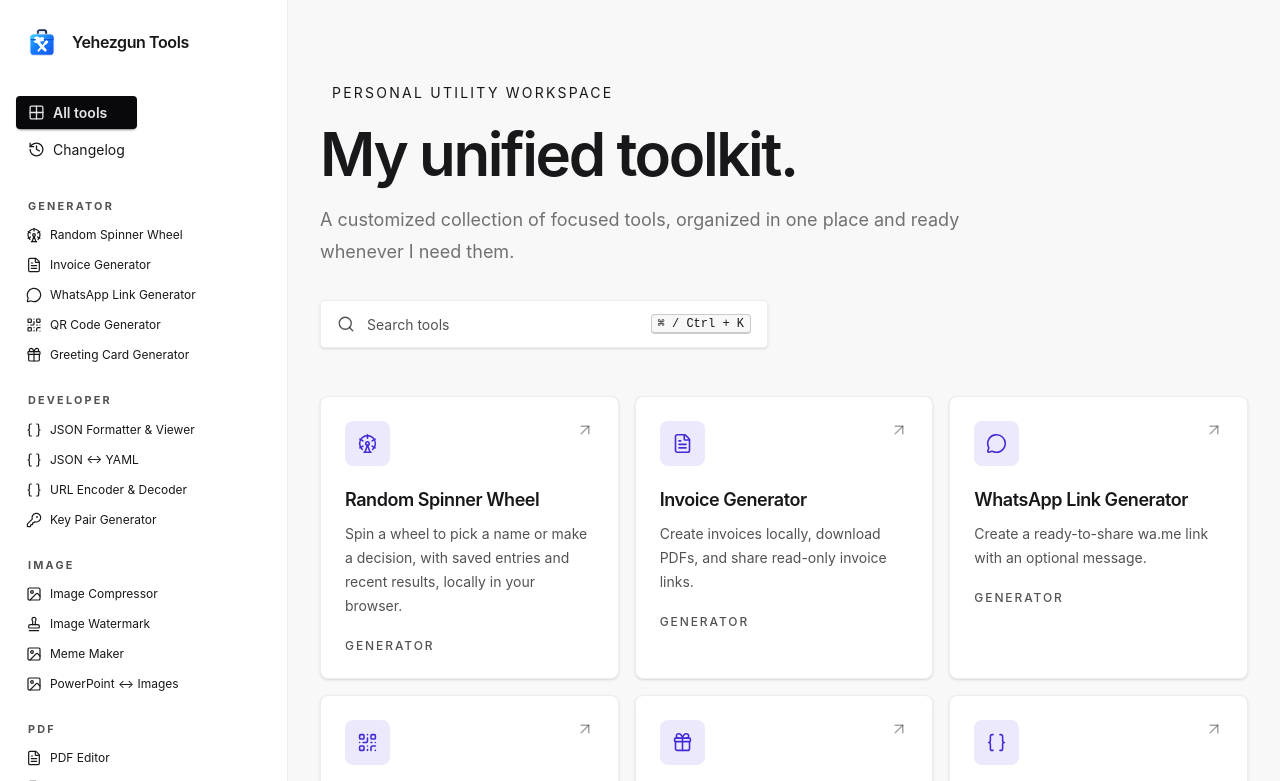
Scenario: shows an empty state when there are no matching tools
Click the button "Search tools ⌘ / Ctrl + K": [408, 324] box [320,300,768,348]
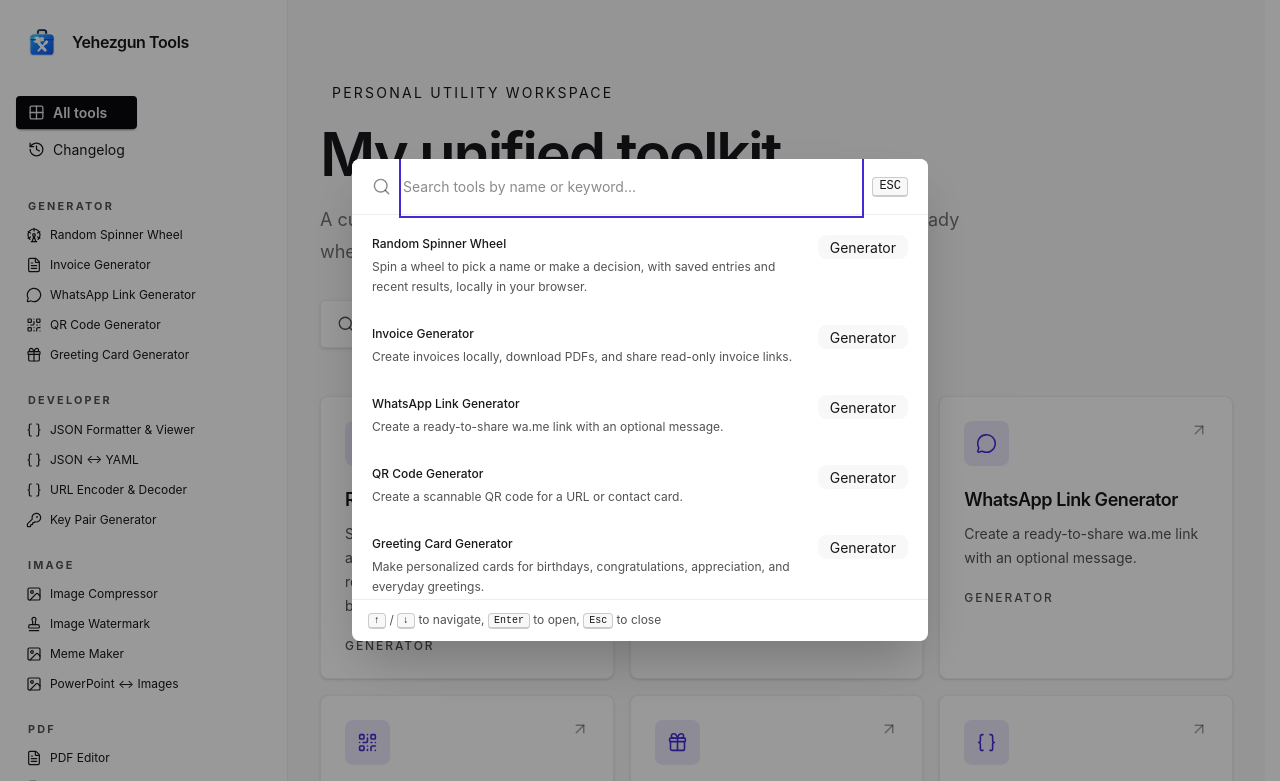
In the search field named "Search tools": [632, 187] box [403,159,860,214], type "unlisted utility"
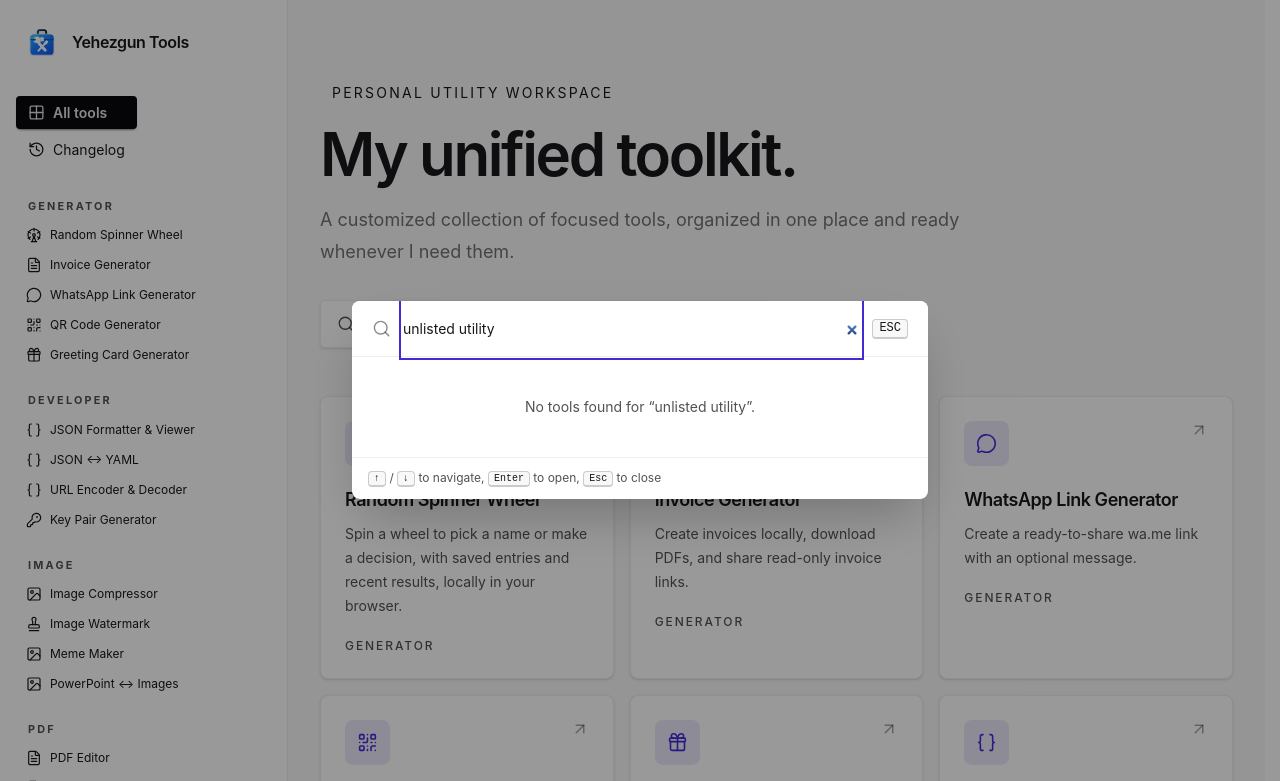
Expected: the text "No tools found for “unlisted utility”." is shown, [525,398,755,415]
